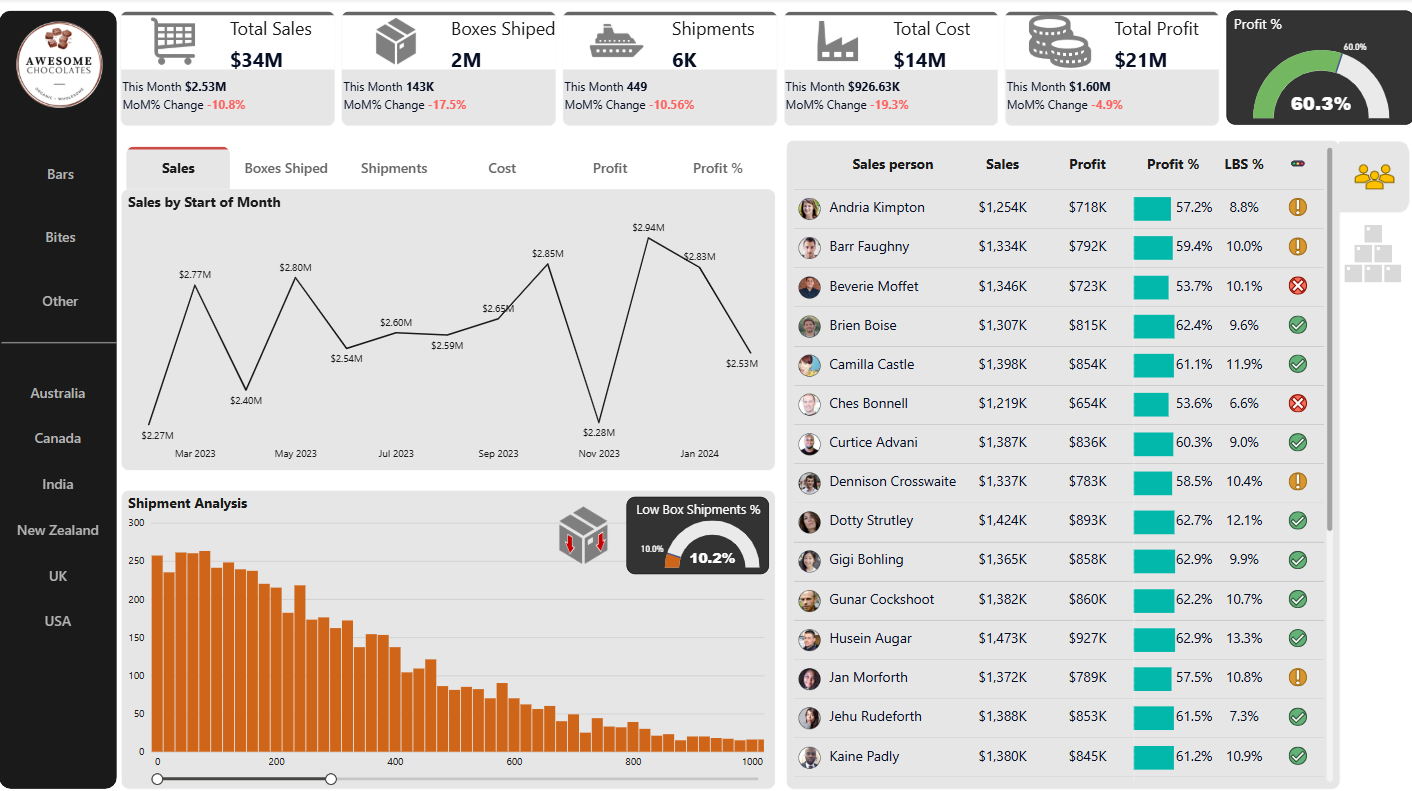

The dashboard page shown, as its layout file describes it:
{"tool":"powerbi","page":{"name":"Sales Report","canvas":[1920,1080],"ordinal":0},"visuals":[{"type":"shape","box":[0,16.5,159.6,1052.9],"z":0},{"type":"cardVisual","fields":{"Data":["_Measures.Total_Sales","_Measures.Total_Boxes","_Measures.Total_Shipments","_Measures.Total_Cost","_Measures.Total_Profit"]},"box":[159.6,12.9,1500.4,165.1],"z":1000},{"type":"gauge","fields":{"Y":["_Measures.Profit %"]},"box":[1660,16.6,255,154],"z":2000},{"type":"image","title":"Company Logo","box":[1.8,27.5,159.6,126.6],"z":3000},{"type":"lineChart","fields":{"Y":["_Measures.Total_Sales"],"Category":["calendar.Start of Month"]},"box":[165.1,258.6,884.1,379.7],"z":4000},{"type":"advancedSlicerVisual","fields":{"Values":["Measure Selector.Measure Selector"]},"box":[166.9,196.3,882.3,67.9],"z":5000},{"type":"columnChart","title":"Shipment Analysis","fields":{"Category":["shipments.Boxes (bins)"],"Y":["_Measures.Total_Shipments"]},"box":[165.1,665.8,884.1,403.5],"z":6000},{"type":"gauge","title":"Low Box Shipments %","fields":{"Y":["_Measures.LBS %"]},"box":[849.5,675.2,192.6,104.6],"z":7000},{"type":"image","title":"LBS Icon","box":[732.1,675.2,117.4,104.6],"z":8000},{"type":"tableEx","title":"Sales Person Table","fields":{"Values":["people.Picture","people.Sales person","_Measures.Total_Sales","_Measures.Total_Profit","_Measures.Profit %","_Measures.LBS %","_Measures.Profit Target Indicator"]},"box":[1065.7,192.6,748.4,876.8],"z":9000},{"type":"image","title":"Active People Icon","box":[1806.7,185.3,106.4,111.9],"z":11000},{"type":"image","title":"Inactive Product Icon","box":[1802.6,290.9,111.7,109.1],"z":12000},{"type":"advancedSlicerVisual","title":"Product Category","fields":{"Values":["products.Category"]},"box":[3.7,192.6,159.6,260.5],"z":13000},{"type":"advancedSlicerVisual","title":"Product Category","fields":{"Values":["shipments.Geography"]},"box":[0,500.7,159.6,379.7],"z":14000},{"type":"shape","box":[3.7,440.2,155.9,53.2],"z":15000}]}

Visuals, with their boxes in screenshot pixels (x1, y1, x2, y2), scaled from the page's 1920x1080 canvas onto the 1412x791 screenshot:
shape: bbox(0, 12, 117, 783)
cardVisual - _Measures.Total_Sales x _Measures.Total_Boxes: bbox(117, 9, 1221, 130)
gauge - _Measures.Profit %: bbox(1221, 12, 1408, 125)
"Company Logo" image: bbox(1, 20, 119, 113)
lineChart - _Measures.Total_Sales x calendar.Start of Month: bbox(121, 189, 772, 467)
advancedSlicerVisual - Measure Selector.Measure Selector: bbox(123, 144, 772, 194)
"Shipment Analysis" columnChart: bbox(121, 488, 772, 783)
"Low Box Shipments %" gauge: bbox(625, 495, 766, 571)
"LBS Icon" image: bbox(538, 495, 625, 571)
"Sales Person Table" tableEx: bbox(784, 141, 1334, 783)
"Active People Icon" image: bbox(1329, 136, 1407, 218)
"Inactive Product Icon" image: bbox(1326, 213, 1408, 293)
"Product Category" advancedSlicerVisual: bbox(3, 141, 120, 332)
"Product Category" advancedSlicerVisual: bbox(0, 367, 117, 645)
shape: bbox(3, 322, 117, 361)
